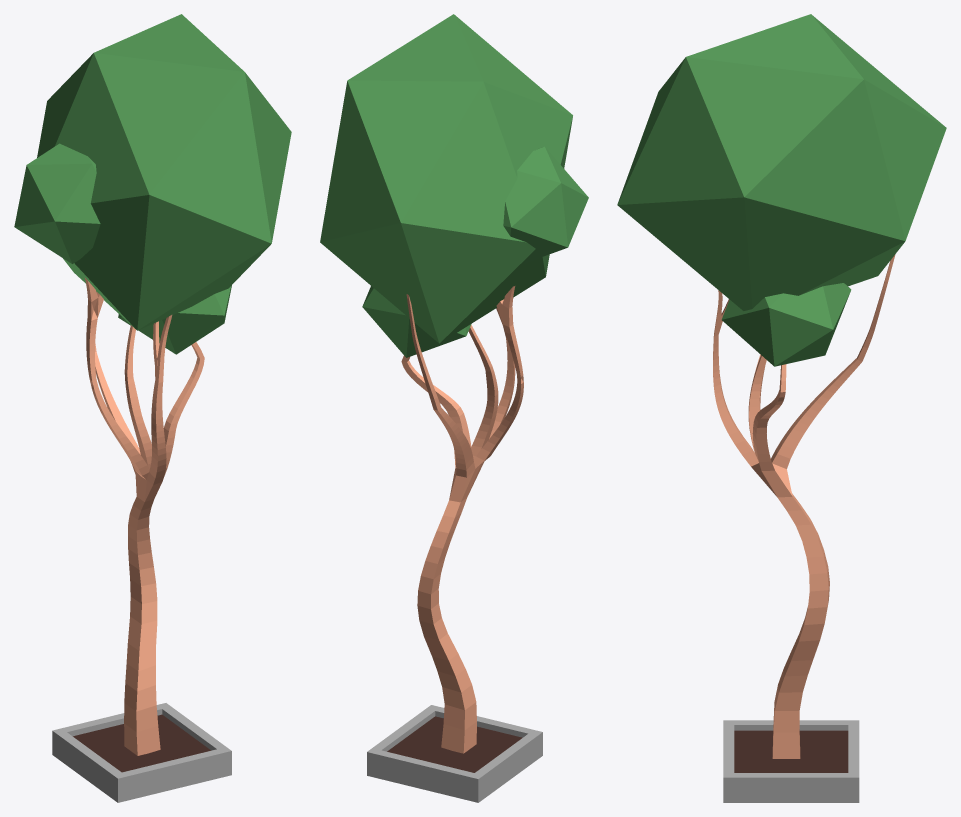
The model's file is Street Tree 3.fbx.
3 renders of one model, left to right at view 1: azimuth 30°, elevation 25°; view 2: azimuth 150°, elevation 25°; view 3: azimuth 270°, elevation 25°, orthographic. The views are drawn at different scales.
Parts seen in each view (by area): view 1: Street Tree 3; view 2: Street Tree 3; view 3: Street Tree 3.
Part boxes in pixels (x1,y1,x2,y2): Street Tree 3: [14, 14, 291, 802]; Street Tree 3: [320, 14, 588, 802]; Street Tree 3: [617, 14, 946, 802].
Bounding box in the file's own units: 218 × 602 × 242.
Materials: 1 (1 with a texture image).
